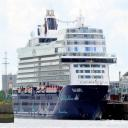cruises: (12, 9, 119, 123)
